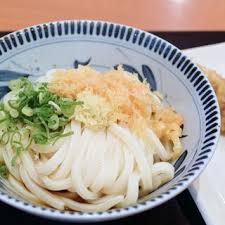bukkake: (1, 25, 209, 219)
